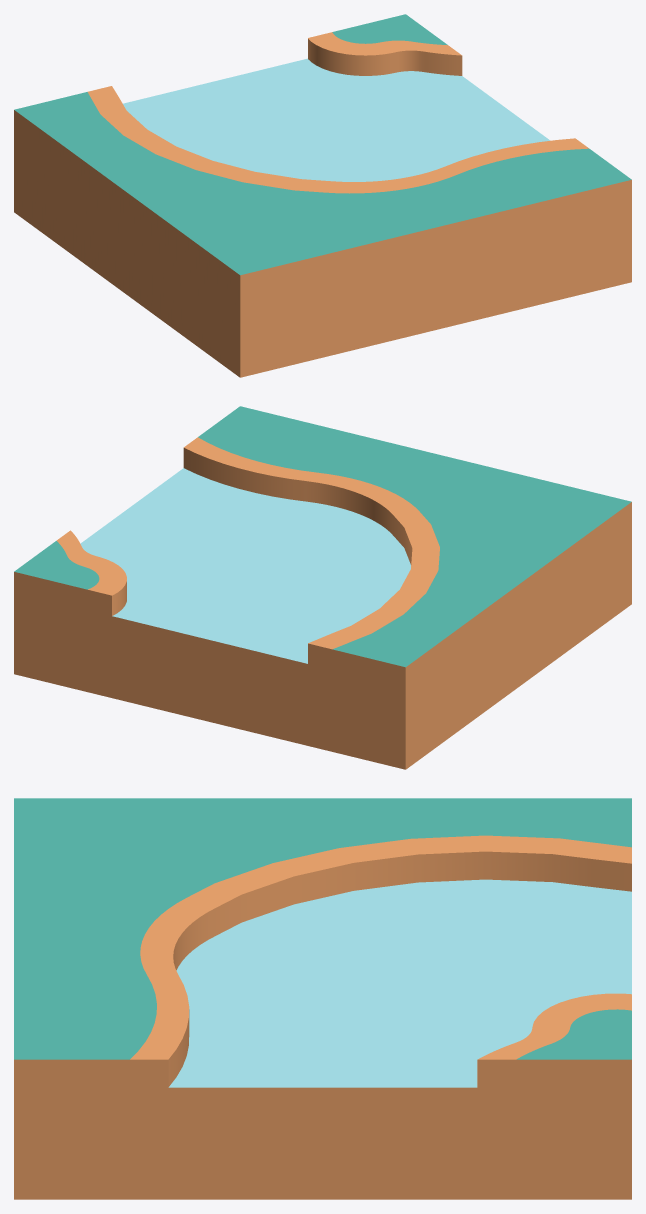
The model's file is ground_dirtRiverCorner.fbx.
3 renders of one model, top to bottom at view 1: azimuth 30°, elevation 25°; view 2: azimuth 150°, elevation 25°; view 3: azimuth 270°, elevation 25°, orthographic. The views are drawn at different scales.
Parts seen in each view (by area): view 1: ground_dirtRiverCorner; view 2: ground_dirtRiverCorner; view 3: ground_dirtRiverCorner.
Part boxes in pixels (bbox=[...]): ground_dirtRiverCorner: bbox=[14, 14, 631, 377]; ground_dirtRiverCorner: bbox=[14, 406, 631, 769]; ground_dirtRiverCorner: bbox=[14, 798, 631, 1199].
Bounding box in the file's own units: 10 × 2.5 × 10.
